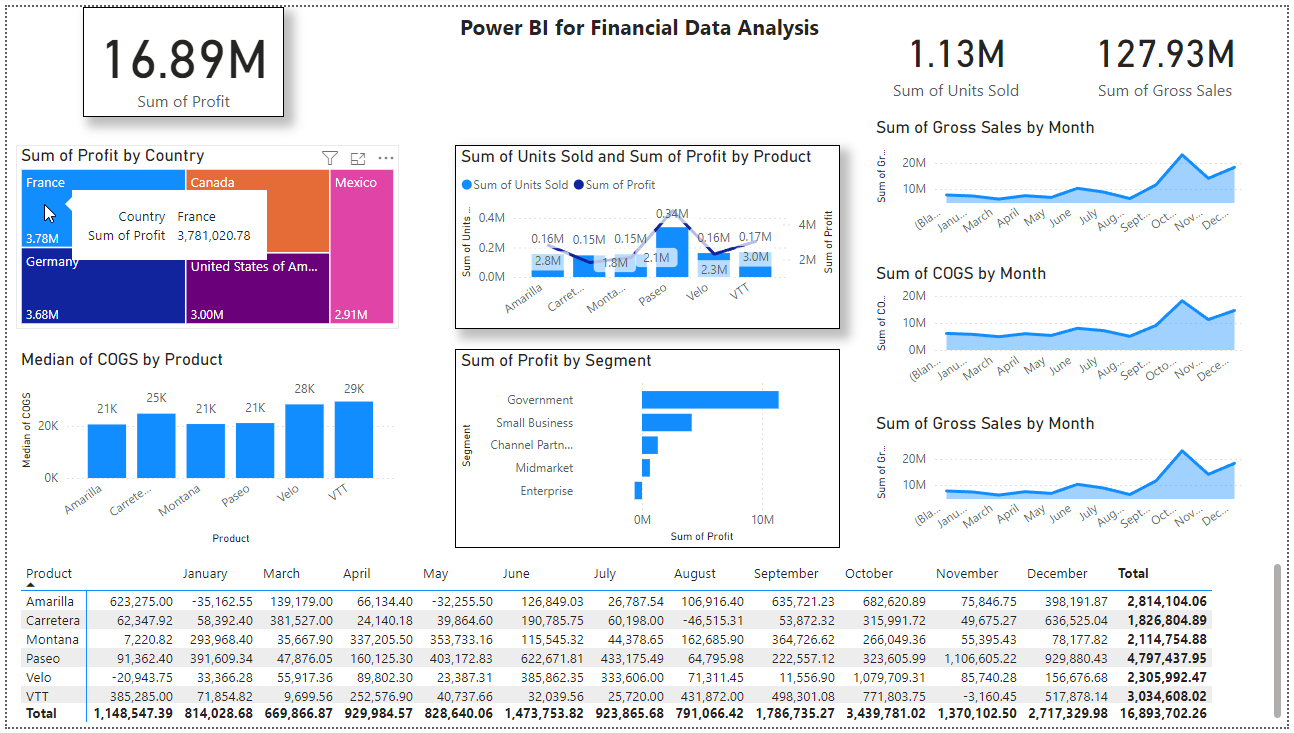

The page's visual inventory and layout, read from the dashboard file:
{"tool":"powerbi","page":{"name":"Page 1","canvas":[1280,720],"ordinal":0},"visuals":[{"type":"textbox","box":[447.7,0,384.5,99.3],"z":0},{"type":"card","fields":{"Values":["Sum(financials.Profit)"]},"box":[75.9,0,201.3,109.9],"z":1000},{"type":"treemap","fields":{"Group":["financials.Country"],"Values":["Sum(financials.Profit)"]},"box":[8.8,138.1,383.2,183.8],"z":2000},{"type":"lineStackedColumnComboChart","fields":{"Category":["financials.Product"],"Y":["Median(financials.COGS)"]},"box":[8.8,342.4,383.2,199.4],"z":3000},{"type":"pivotTable","fields":{"Rows":["financials.Product"],"Columns":["RF Table.Month"],"Values":["Sum(financials.Profit)"]},"box":[8.8,550.5,1271.2,169.2],"z":4000},{"type":"lineStackedColumnComboChart","fields":{"Category":["financials.Product"],"Y":["Sum(financials.Units Sold)"],"Y2":["Sum(financials.Profit)"]},"box":[448,138,385,184],"z":5000},{"type":"clusteredBarChart","fields":{"Category":["financials.Segment"],"Y":["Sum(financials.Profit)"]},"box":[448,342,385,199],"z":6000},{"type":"card","fields":{"Values":["Sum(financials.Units Sold)"]},"box":[863.7,0,170.2,107],"z":7000},{"type":"card","fields":{"Values":["Sum(financials.Gross Sales)"]},"box":[1072.8,0,170.2,107],"z":8000},{"type":"areaChart","fields":{"Category":["RF Table.Month"],"Y":["Sum(financials.Gross Sales)"]},"box":[863.7,109.9,379.3,129.4],"z":9000},{"type":"areaChart","fields":{"Category":["RF Table.Month"],"Y":["Sum(financials.COGS)"]},"box":[863.7,255.8,379.3,132.3],"z":10000},{"type":"areaChart","fields":{"Category":["RF Table.Month"],"Y":["Sum(financials.Gross Sales)"]},"box":[863.7,405.6,379.3,129.4],"z":11000}]}

Visuals, with their boxes in screenshot pixels (x1, y1, x2, y2), scaled from the page's 1280x720 canvas onto the 1294x733 screenshot:
textbox: [x1=453, y1=0, x2=841, y2=101]
card - Sum(financials.Profit): [x1=77, y1=0, x2=280, y2=112]
treemap - financials.Country x Sum(financials.Profit): [x1=9, y1=141, x2=396, y2=328]
lineStackedColumnComboChart - financials.Product x Median(financials.COGS): [x1=9, y1=349, x2=396, y2=552]
pivotTable - financials.Product x RF Table.Month: [x1=9, y1=560, x2=1293, y2=732]
lineStackedColumnComboChart - financials.Product x Sum(financials.Units Sold): [x1=453, y1=140, x2=842, y2=328]
clusteredBarChart - financials.Segment x Sum(financials.Profit): [x1=453, y1=348, x2=842, y2=551]
card - Sum(financials.Units Sold): [x1=873, y1=0, x2=1045, y2=109]
card - Sum(financials.Gross Sales): [x1=1085, y1=0, x2=1257, y2=109]
areaChart - RF Table.Month x Sum(financials.Gross Sales): [x1=873, y1=112, x2=1257, y2=244]
areaChart - RF Table.Month x Sum(financials.COGS): [x1=873, y1=260, x2=1257, y2=395]
areaChart - RF Table.Month x Sum(financials.Gross Sales): [x1=873, y1=413, x2=1257, y2=545]
